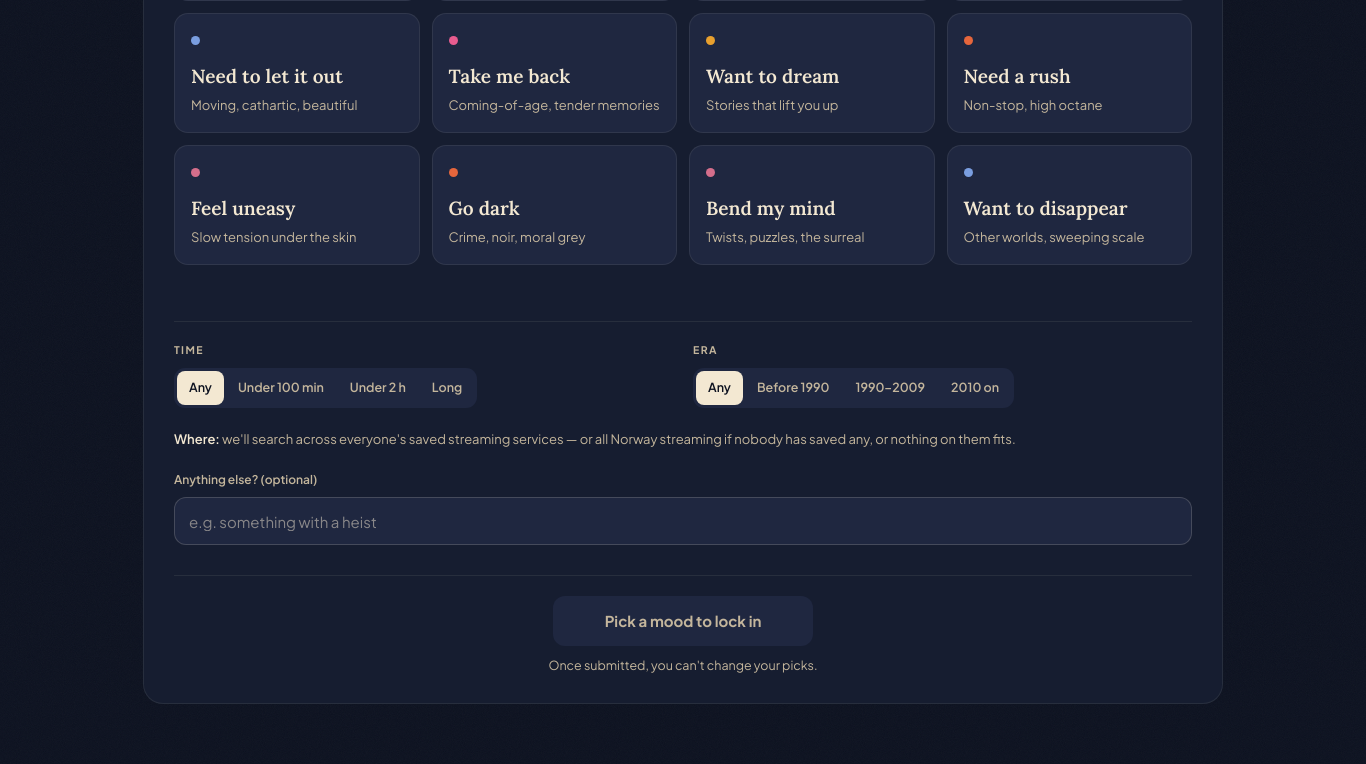
Group mood page › locks in text alone only when it reads as a mood
This screenshot has width=1366, height=764.
(page scrolled)
Type "80s" into the field labelled "Anything else? (optional)" at (683, 521), box [174, 497, 1192, 545]
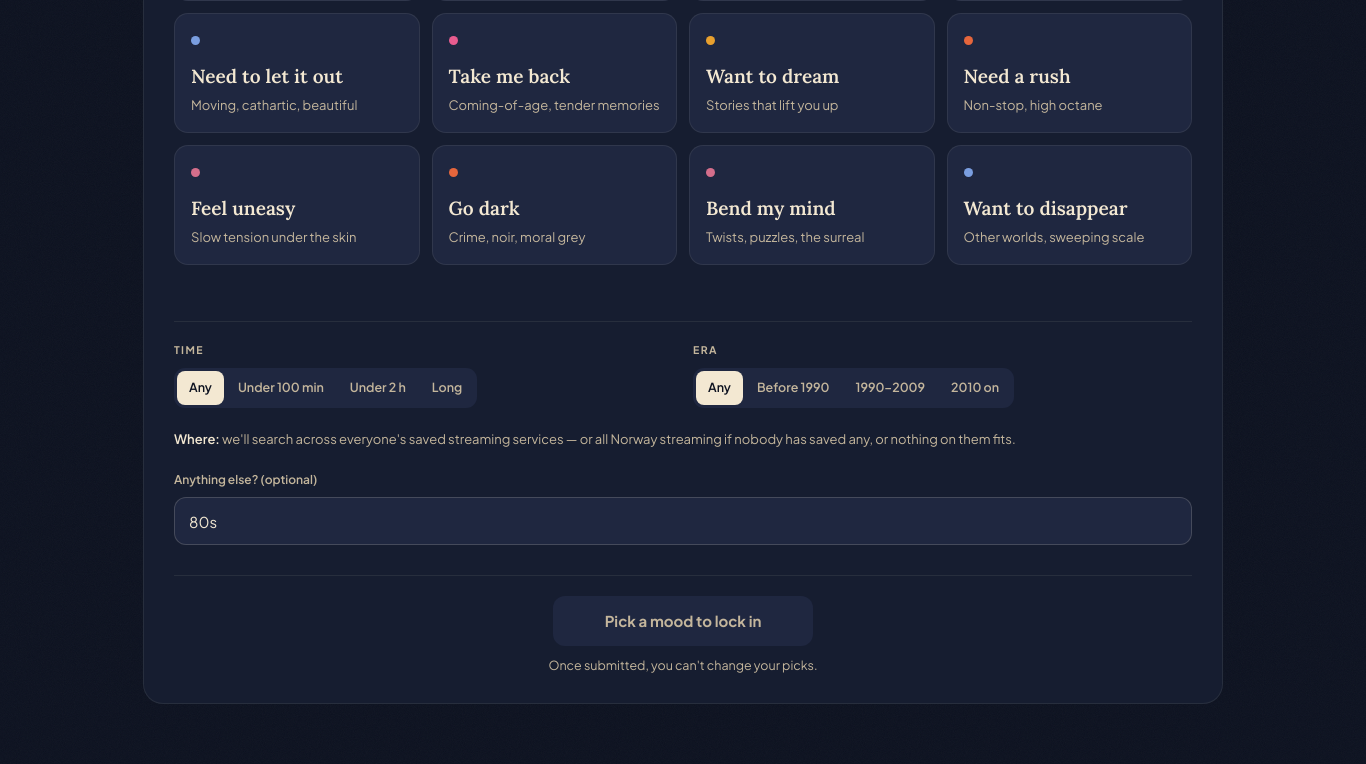
Check: the button "Pick a mood to lock in" is shown, box [553, 596, 813, 646]
Replace the text in the field labelled "Anything else? (optional)" with "cozy" at (683, 521), box [174, 497, 1192, 545]
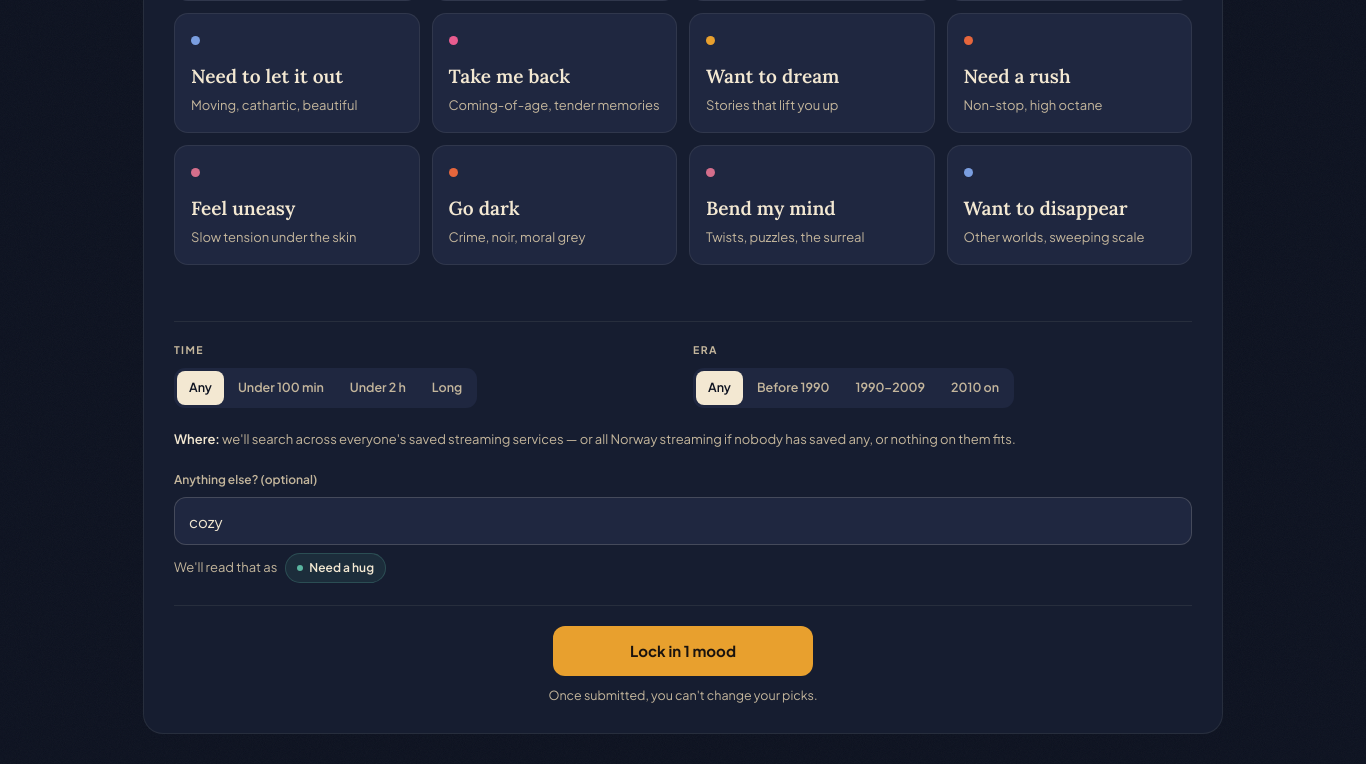
Check: the button "Lock in 1 mood" is shown, box [553, 626, 813, 676]
